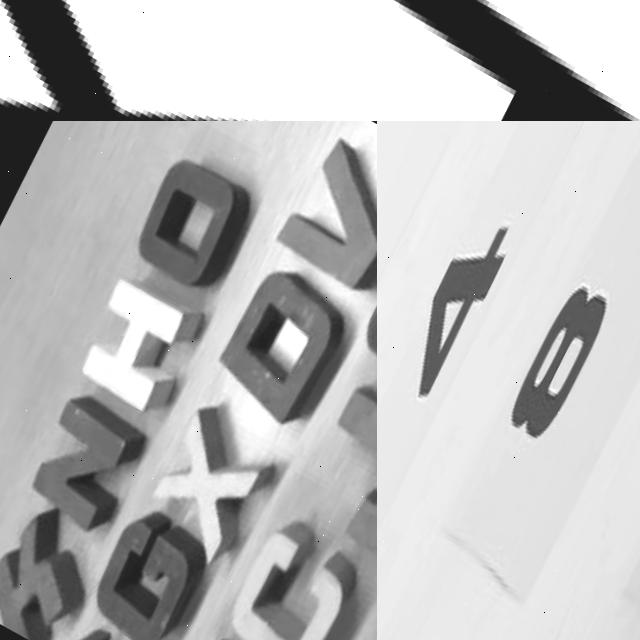4: (377, 178, 545, 422)
8: (468, 251, 634, 467)
C: (182, 496, 377, 640)
D: (185, 258, 368, 448)
G: (59, 493, 223, 640)
H: (377, 0, 640, 121), (60, 260, 217, 420)
J: (283, 390, 377, 553)
K: (0, 501, 105, 640)
N: (0, 381, 158, 552)
O: (116, 150, 268, 302)
S: (337, 213, 377, 406)
V: (253, 131, 377, 311)
X: (0, 0, 377, 121), (123, 386, 292, 566)
